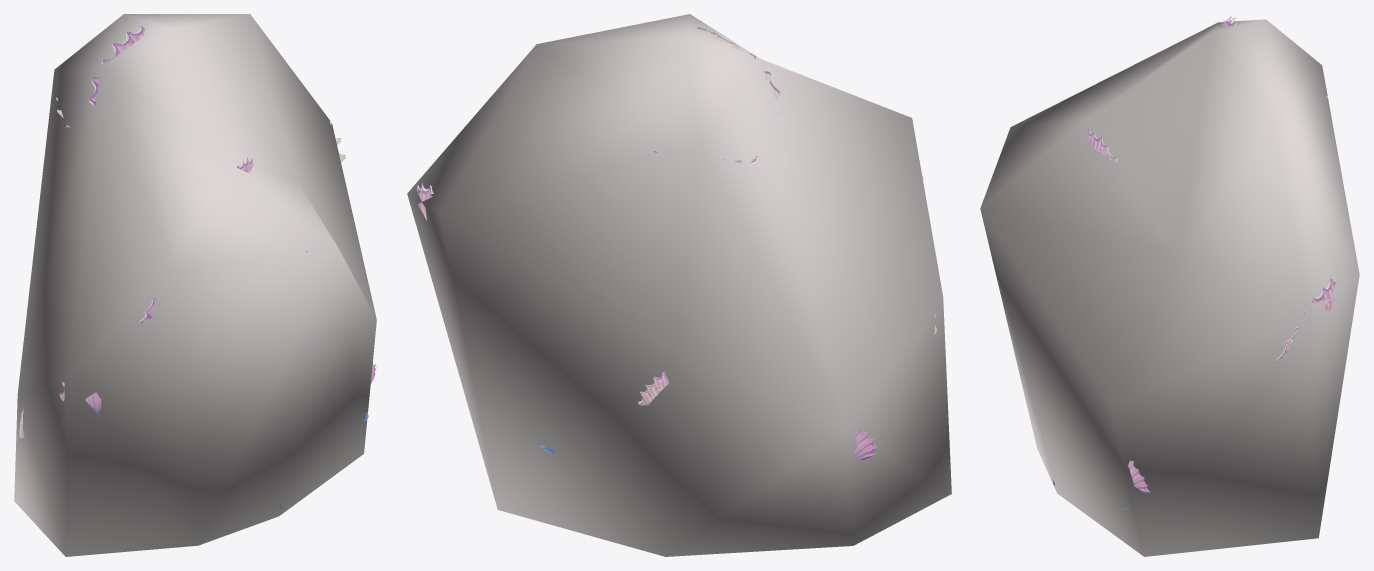
Rendered from Homeworld_Exterior_Dq_Plant_Grass_05_Lod0.fbx.
The picture shows the model from 3 angles, left to right: view 1: azimuth 30°, elevation 25°; view 2: azimuth 150°, elevation 25°; view 3: azimuth 270°, elevation 25°; orthographic projection. The views are drawn at different scales.
Visible parts, largest first — view 1: EffectMesh, Area_Dq_Grass_HZD_Bcc_02_Lod0; view 2: EffectMesh, Area_Dq_Grass_HZD_Bcc_02_Lod0; view 3: EffectMesh, Area_Dq_Grass_HZD_Bcc_02_Lod0.
Boxes of the visible parts, bbox=[...] form: EffectMesh: bbox=[14, 14, 376, 556]; Area_Dq_Grass_HZD_Bcc_02_Lod0: bbox=[18, 26, 376, 508]; EffectMesh: bbox=[407, 14, 951, 556]; Area_Dq_Grass_HZD_Bcc_02_Lod0: bbox=[416, 27, 937, 459]; EffectMesh: bbox=[980, 19, 1359, 556]; Area_Dq_Grass_HZD_Bcc_02_Lod0: bbox=[986, 16, 1335, 509].
Size of the model in its own units: 1.6 by 1.77 by 1.35.
